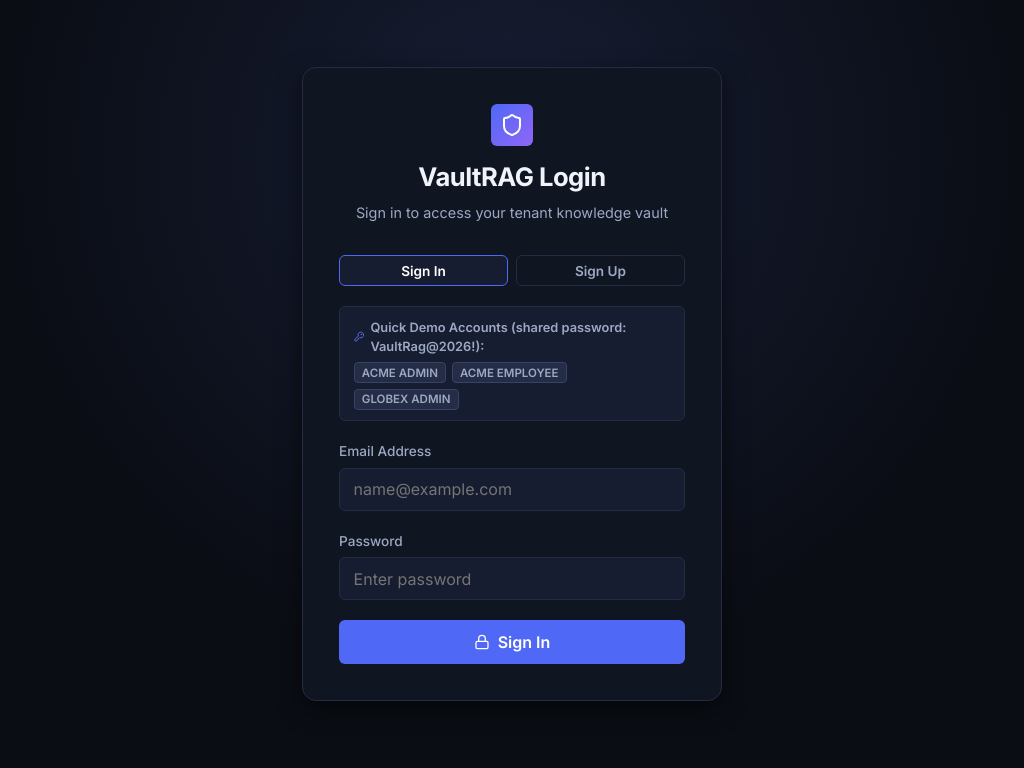
Test: LoginPage Form Validation › displays error banner when authentication fails
In the field with test id "input-email": (512, 489) top-left (339, 468), bottom-right (685, 511), type "admin@acme.com"
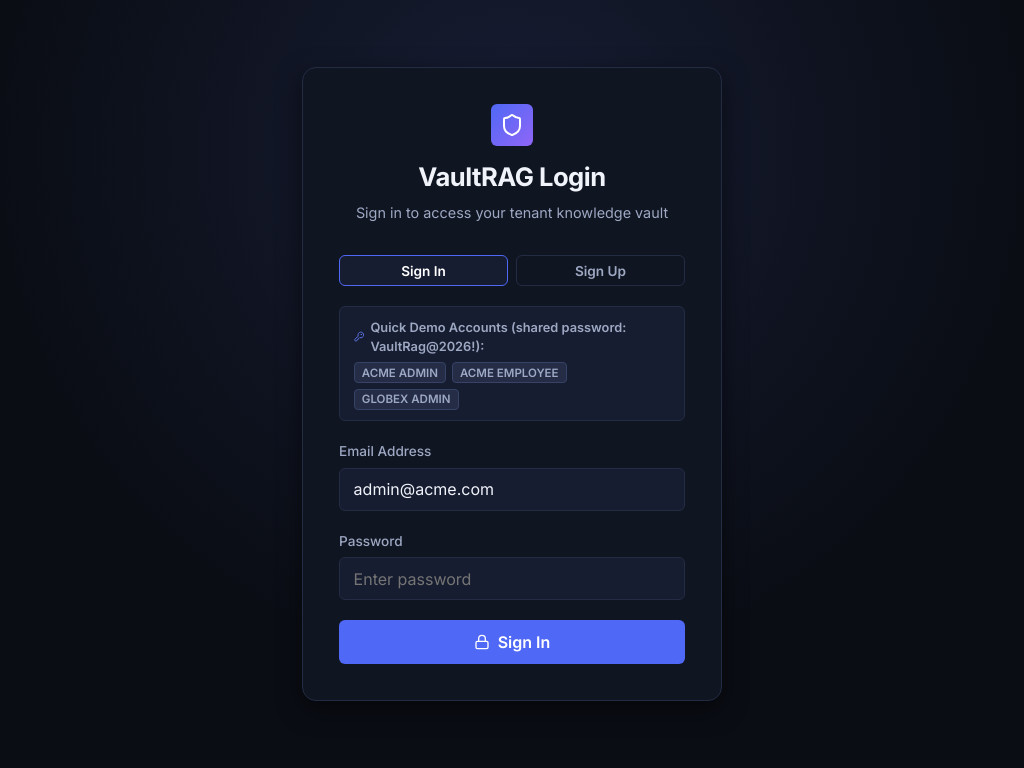
In the password field with test id "input-password": (512, 579) top-left (339, 557), bottom-right (685, 600), type "WrongPassword"
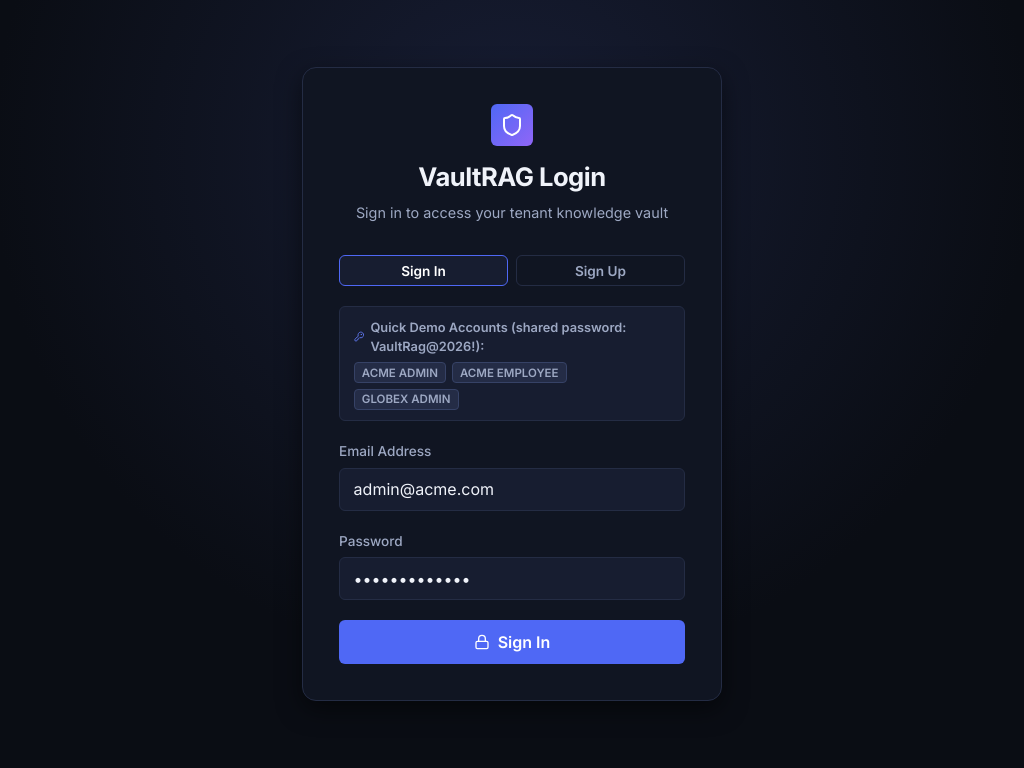
Click the button with test id "btn-login-submit": (512, 642) top-left (339, 620), bottom-right (685, 664)
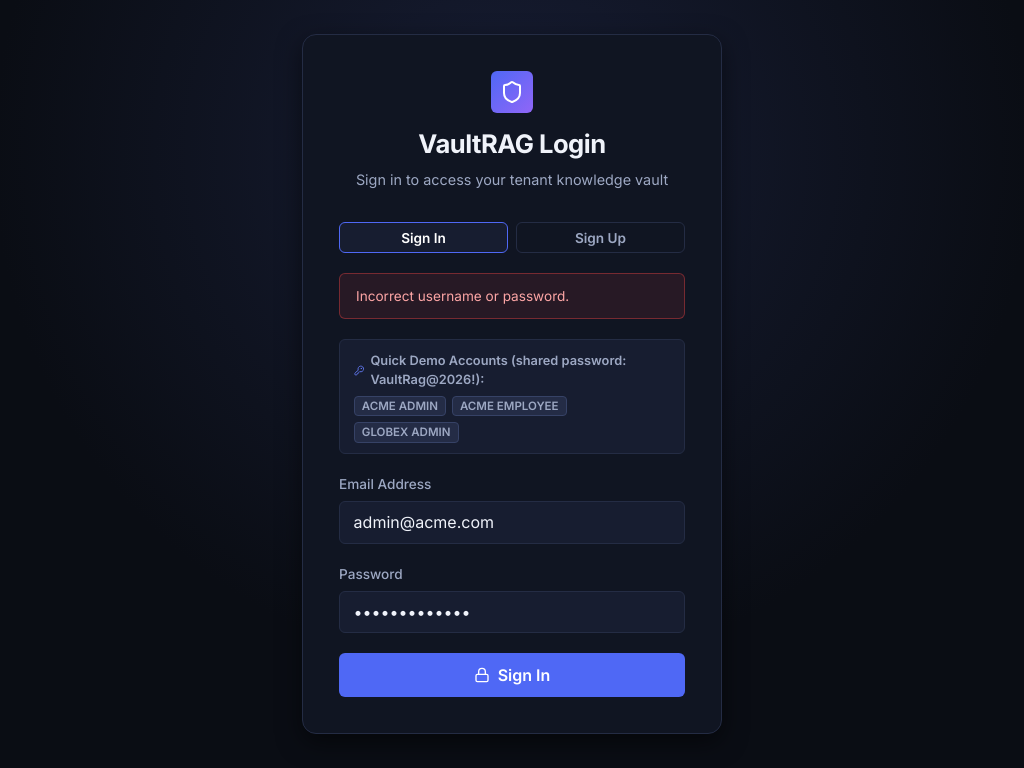
Now the message with test id "login-error-banner" reads "Incorrect username or password.", box top-left (356, 288), bottom-right (569, 304)
